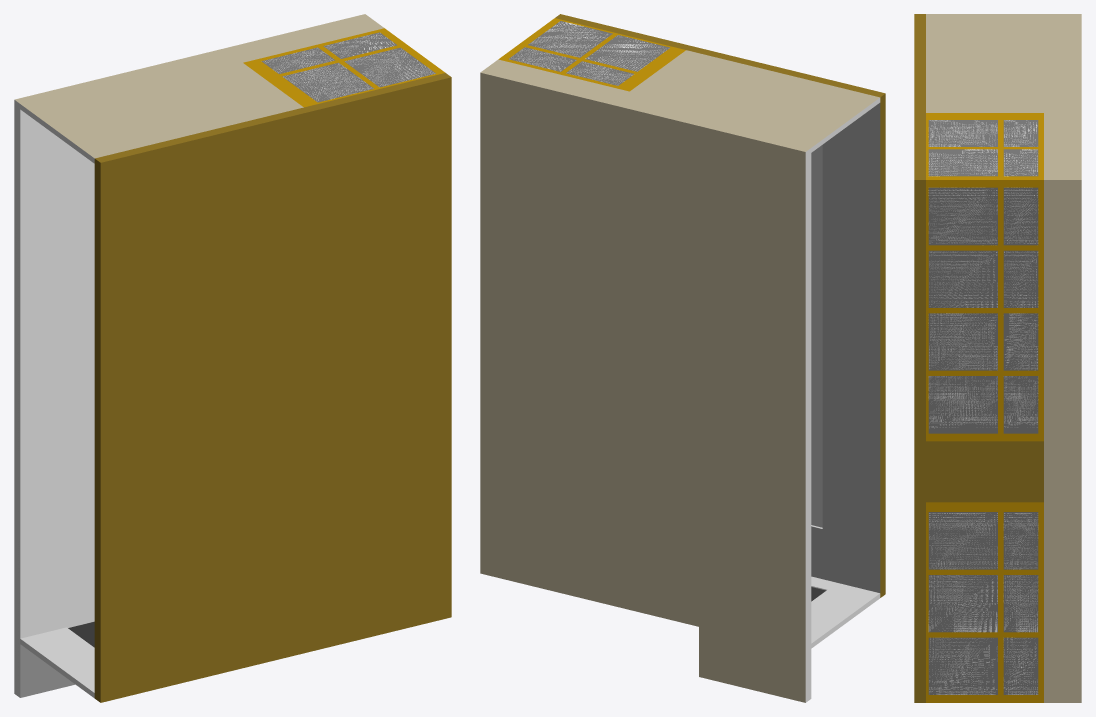
The model's file is room15.obj.
3 renders of one model, left to right at view 1: azimuth 30°, elevation 25°; view 2: azimuth 150°, elevation 25°; view 3: azimuth 270°, elevation 25°, orthographic. The views are drawn at different scales.
Visible parts, largest first — view 1: room15; view 2: room15; view 3: room15.
Boxes of the visible parts, <box> form: room15: <box>14,14,451,702</box>; room15: <box>480,14,885,702</box>; room15: <box>914,14,1081,702</box>.
Size of the model in its own units: 268 by 433 by 114.
